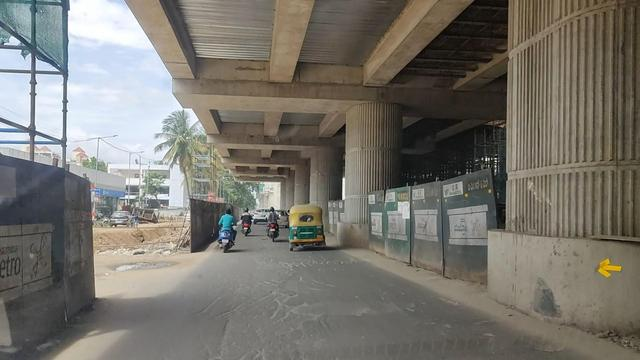LMV: (290, 197, 331, 261), (217, 205, 237, 259), (265, 202, 284, 255)
RoadDamages: (192, 301, 560, 357), (235, 257, 383, 307), (110, 257, 180, 280)
